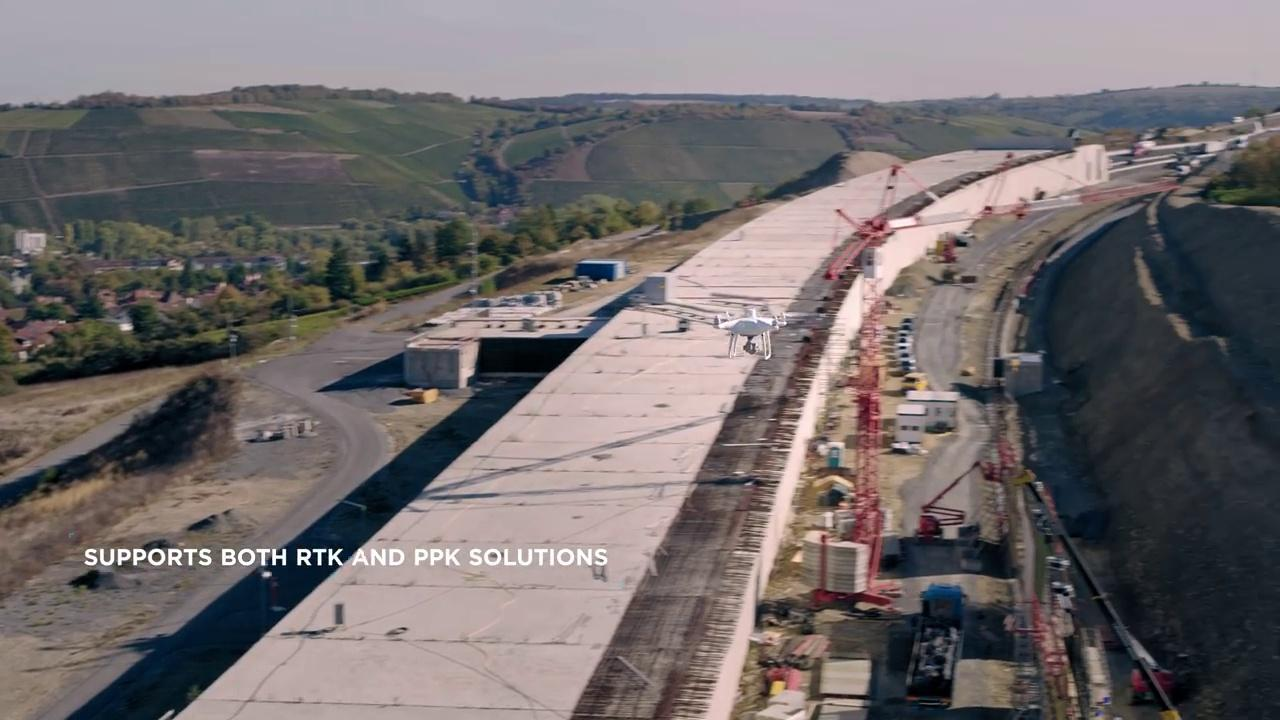drone: (707, 304, 808, 359)
